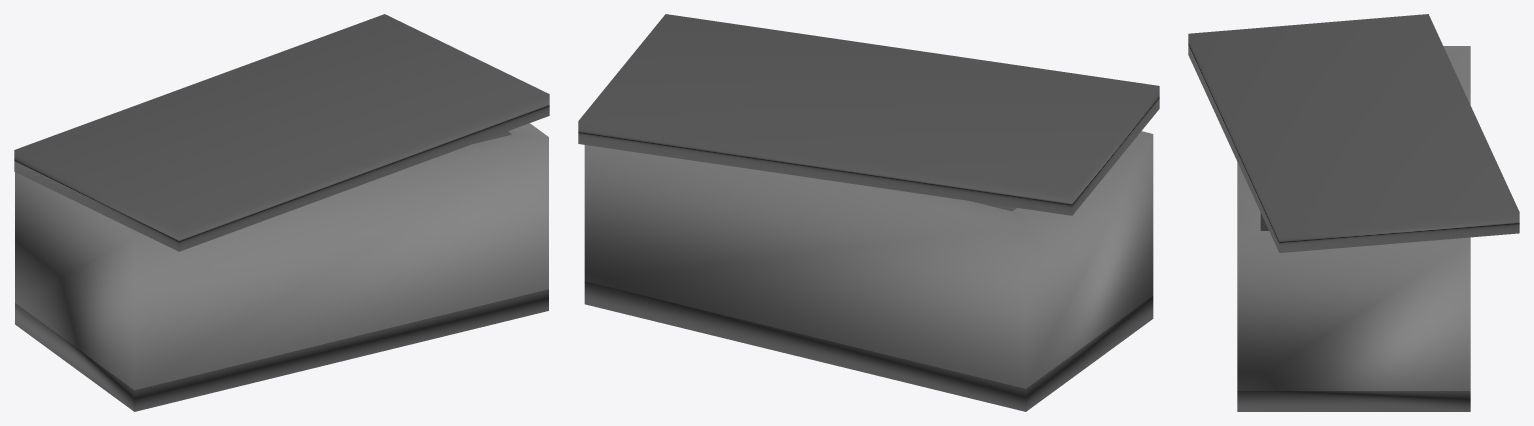
The model's file is Chest.glb.
The picture shows the model from 3 angles, left to right: view 1: azimuth 30°, elevation 25°; view 2: azimuth 150°, elevation 25°; view 3: azimuth 270°, elevation 25°; orthographic projection. The views are drawn at different scales.
Visible parts, largest first — view 1: CheatBase, ChestCap; view 2: CheatBase, ChestCap; view 3: ChestCap, CheatBase.
Part boxes in pixels (x1,y1,x2,y2): CheatBase: (15, 123, 548, 411); ChestCap: (14, 14, 549, 251); CheatBase: (584, 131, 1153, 411); ChestCap: (578, 14, 1159, 215); ChestCap: (1188, 14, 1519, 252); CheatBase: (1237, 46, 1470, 411).
Bounding box in the file's own units: 2.21 × 0.9012 × 1.42.
2 materials, 2 textured.
